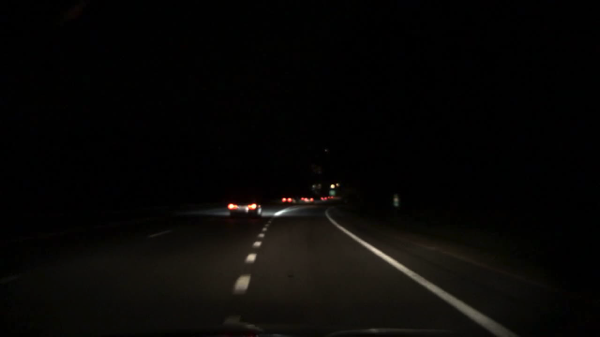car: (227, 198, 263, 219), (280, 197, 296, 206), (299, 197, 315, 205), (320, 196, 327, 202), (327, 196, 334, 199)
traffic sign: (393, 194, 397, 206), (329, 190, 334, 196)
